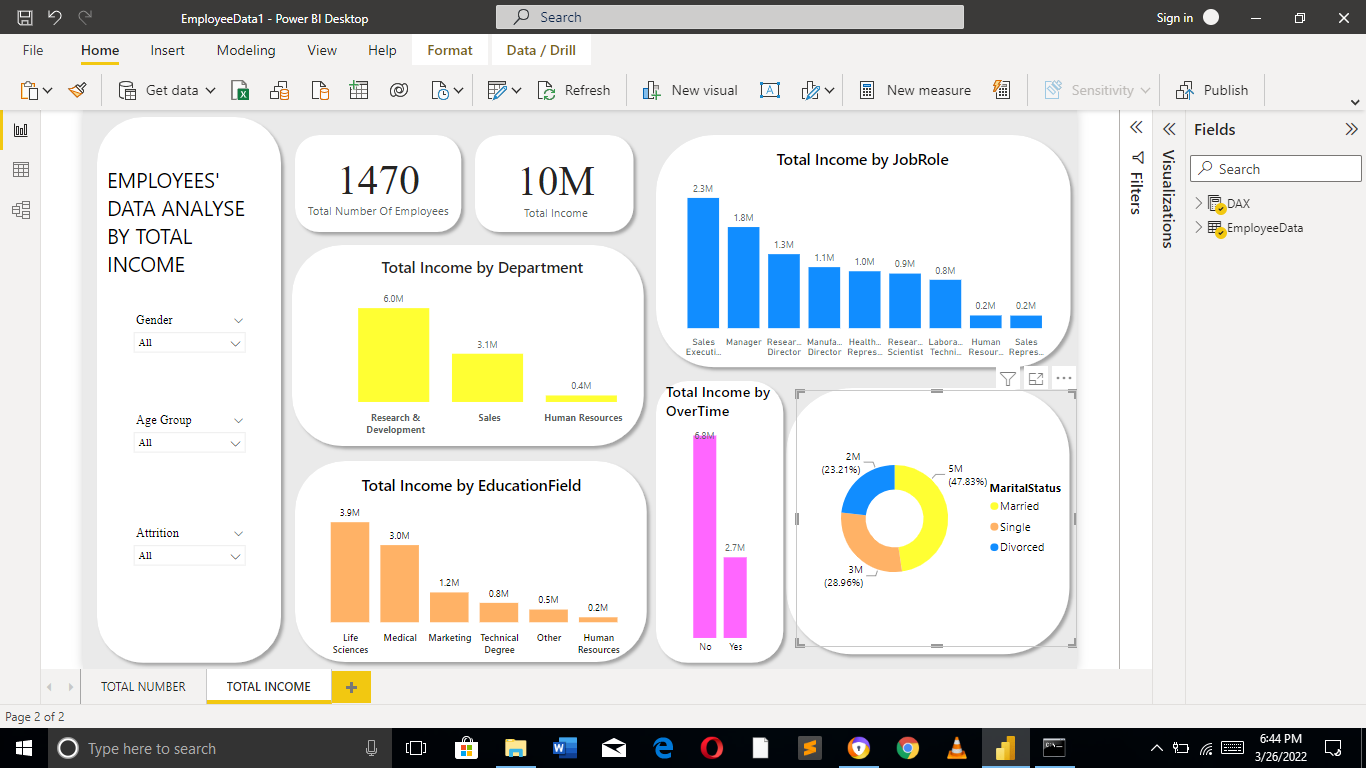

Layout of this report page (visuals, bound fields, positions):
{"tool":"powerbi","page":{"name":"TOTAL INCOME","canvas":[1280,720],"ordinal":1},"visuals":[{"type":"shape","box":[260.3,165.5,471,277.2],"z":0},{"type":"shape","box":[9.6,0,254.6,721.2],"z":1000},{"type":"shape","box":[264.5,22.6,232,142.9],"z":2000},{"type":"card","fields":{"Values":["DAX.Total Number Of Employee"]},"box":[277.2,36.8,206.5,114.6],"z":3000},{"type":"shape","box":[496.5,22.6,222.1,142.9],"z":4000},{"type":"card","fields":{"Values":["DAX.Total Income"]},"box":[499.3,28.3,219.2,137.2],"z":5000},{"type":"shape","box":[728.5,22.6,551.7,316.9],"z":6000},{"type":"clusteredColumnChart","fields":{"Category":["EmployeeData.Department"],"Y":["DAX.Total Income"]},"box":[281.5,188.1,464,239.1],"z":7000},{"type":"shape","box":[264.5,442.8,471,277.2],"z":8000},{"type":"clusteredColumnChart","fields":{"Category":["EmployeeData.JobRole"],"Y":["DAX.Total Income"]},"box":[745.5,49.5,516.3,277.2],"z":9000},{"type":"clusteredColumnChart","fields":{"Category":["EmployeeData.EducationField"],"Y":["DAX.Total Income"]},"box":[280.1,468.2,441.3,241.9],"z":10000},{"type":"shape","box":[896.8,349.4,383.3,360.7],"z":11000},{"type":"donutChart","fields":{"Category":["EmployeeData.MaritalStatus"],"Y":["DAX.Total Income"]},"box":[918,360.7,362.1,331],"z":12000},{"type":"shape","box":[728.5,339.5,182.5,380.5],"z":13000},{"type":"slicer","fields":{"Values":["EmployeeData.Gender"]},"box":[55.2,256,164.1,83.5],"z":14000},{"type":"slicer","fields":{"Values":["EmployeeData.Age Group"]},"box":[55.2,384.8,164.1,83.5],"z":15000},{"type":"slicer","fields":{"Values":["EmployeeData.Attrition"]},"box":[55.2,530.5,164.1,83.5],"z":16000},{"type":"columnChart","fields":{"Category":["EmployeeData.OverTime"],"Y":["DAX.Total Income"]},"box":[745.5,349.4,151.3,360.7],"z":17000},{"type":"textbox","box":[25.5,66.5,222.1,155.6],"z":18000}]}

Visuals, with their boxes on the page's 1280x720 design canvas (x1, y1, x2, y2). These are canvas units, not pixel positions in the 1366x768 screenshot, which may show the page scaled, cropped or inside an application window:
shape: bbox(260, 166, 731, 443)
shape: bbox(10, 0, 264, 721)
shape: bbox(264, 23, 496, 166)
card - DAX.Total Number Of Employee: bbox(277, 37, 484, 151)
shape: bbox(496, 23, 719, 166)
card - DAX.Total Income: bbox(499, 28, 718, 166)
shape: bbox(728, 23, 1280, 340)
clusteredColumnChart - EmployeeData.Department x DAX.Total Income: bbox(282, 188, 746, 427)
shape: bbox(264, 443, 736, 720)
clusteredColumnChart - EmployeeData.JobRole x DAX.Total Income: bbox(746, 50, 1262, 327)
clusteredColumnChart - EmployeeData.EducationField x DAX.Total Income: bbox(280, 468, 721, 710)
shape: bbox(897, 349, 1280, 710)
donutChart - EmployeeData.MaritalStatus x DAX.Total Income: bbox(918, 361, 1280, 692)
shape: bbox(728, 340, 911, 720)
slicer - EmployeeData.Gender: bbox(55, 256, 219, 340)
slicer - EmployeeData.Age Group: bbox(55, 385, 219, 468)
slicer - EmployeeData.Attrition: bbox(55, 530, 219, 614)
columnChart - EmployeeData.OverTime x DAX.Total Income: bbox(746, 349, 897, 710)
textbox: bbox(26, 66, 248, 222)
